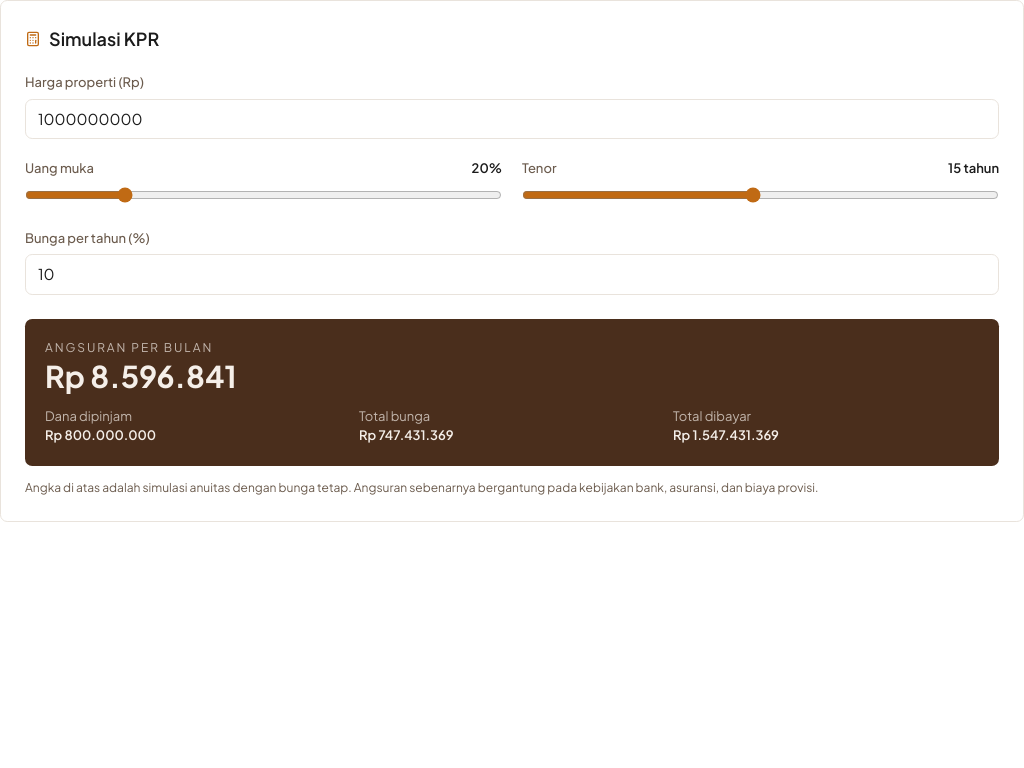
Scenario: MortgageCalculator › explains itself instead of showing a figure when nothing is financed
Set the slider labelled "Uang muka 20%" to "100" at coordinates (494, 194), box [25,186,502,202]
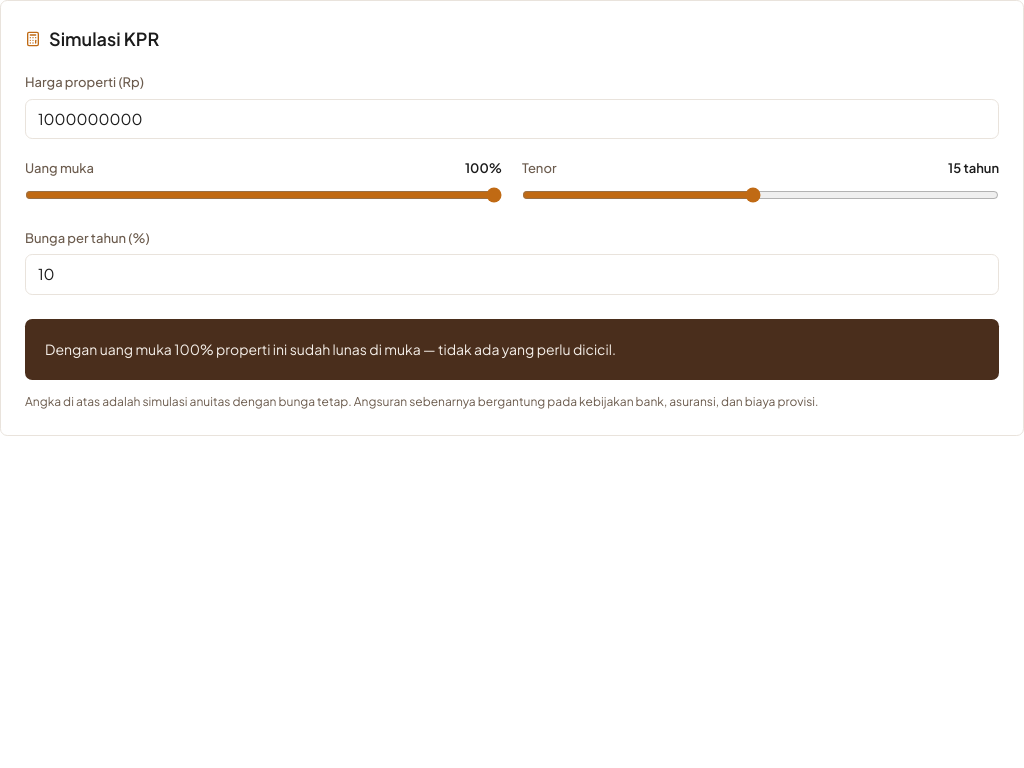
expect the text "Rp 8.596.841" is gone: met
expect the text "lunas" is shown: met, box [200,340,616,358]
